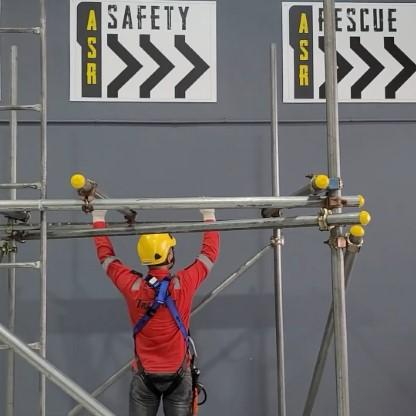helmet: (120, 235, 183, 281)
